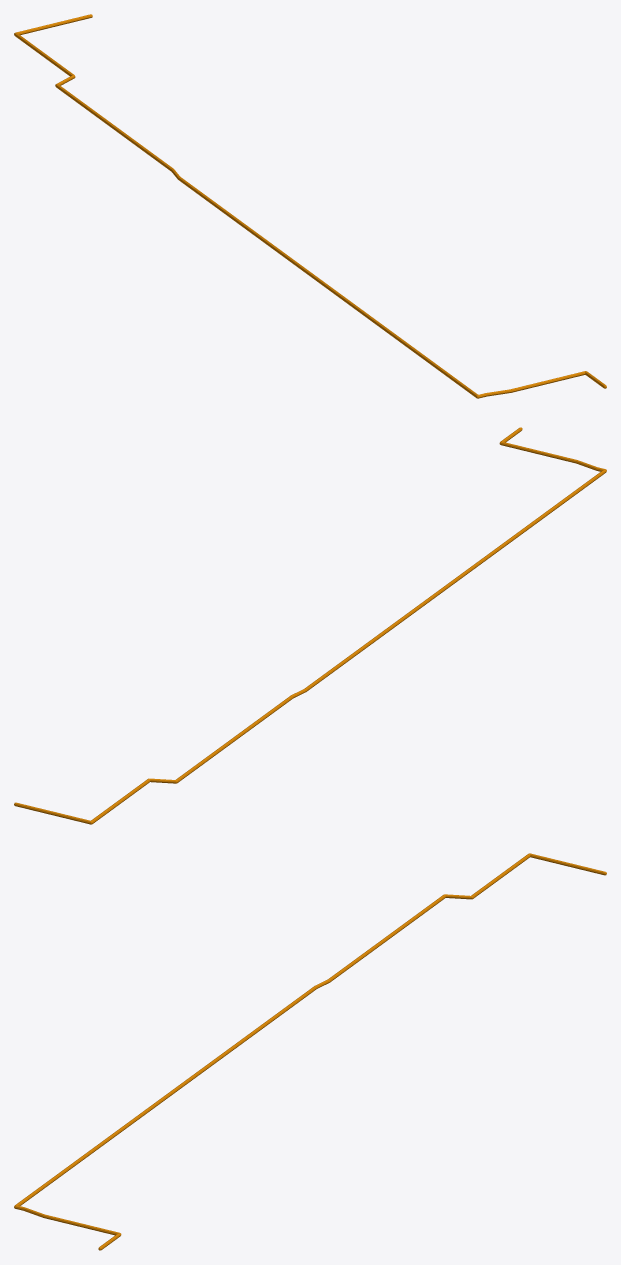
The picture shows the model from 3 angles, top to bottom: view 1: azimuth 30°, elevation 25°; view 2: azimuth 150°, elevation 25°; view 3: azimuth 330°, elevation 25°; orthographic projection.
Size of the model in its own units: 653 by 20 by 5297.
